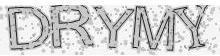D: (6, 6, 50, 51)
M: (133, 6, 175, 50)
R: (50, 4, 94, 50)
Y: (93, 5, 135, 49), (173, 4, 212, 50)
